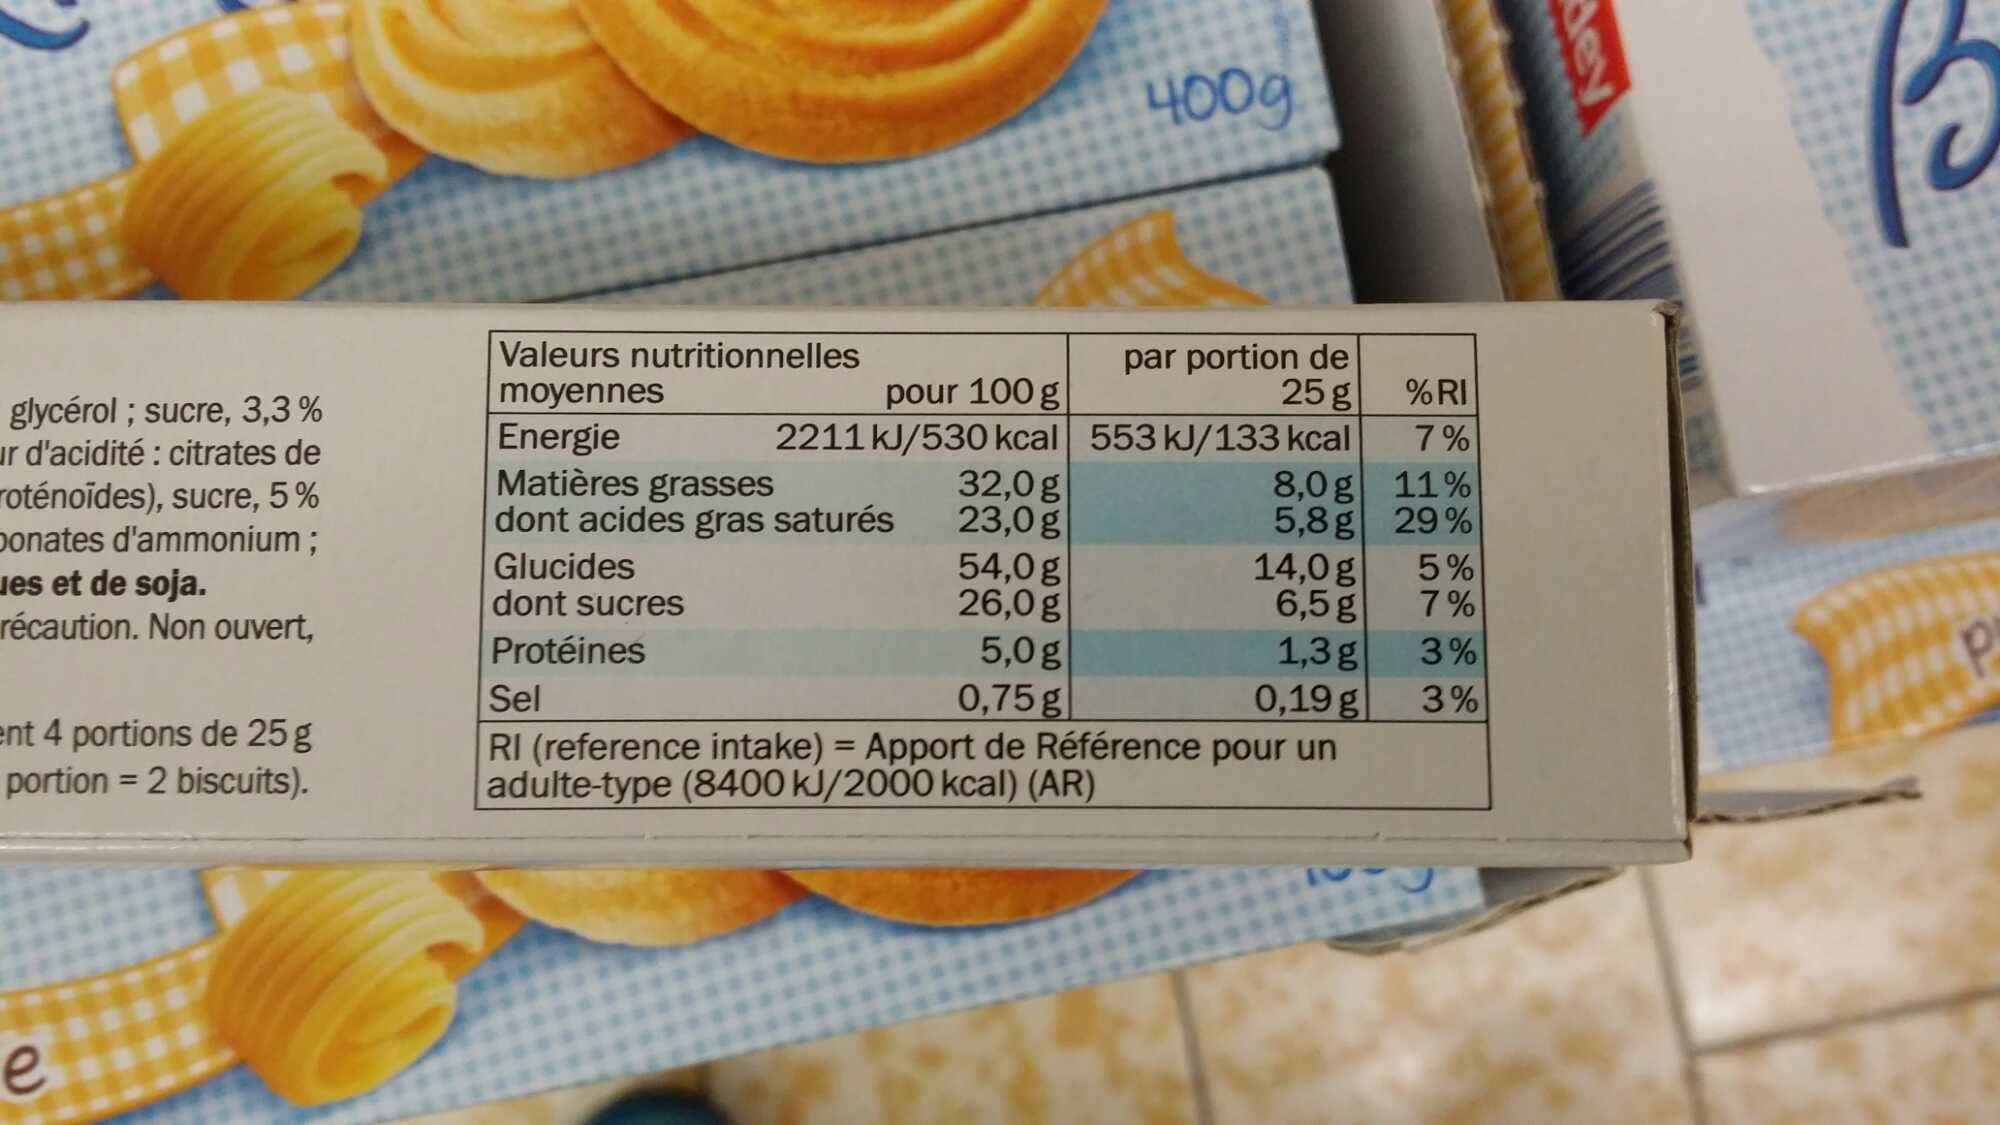column: (492, 337, 1065, 713), (1087, 339, 1363, 721), (1382, 364, 1479, 723)
table: (473, 323, 1501, 728)
